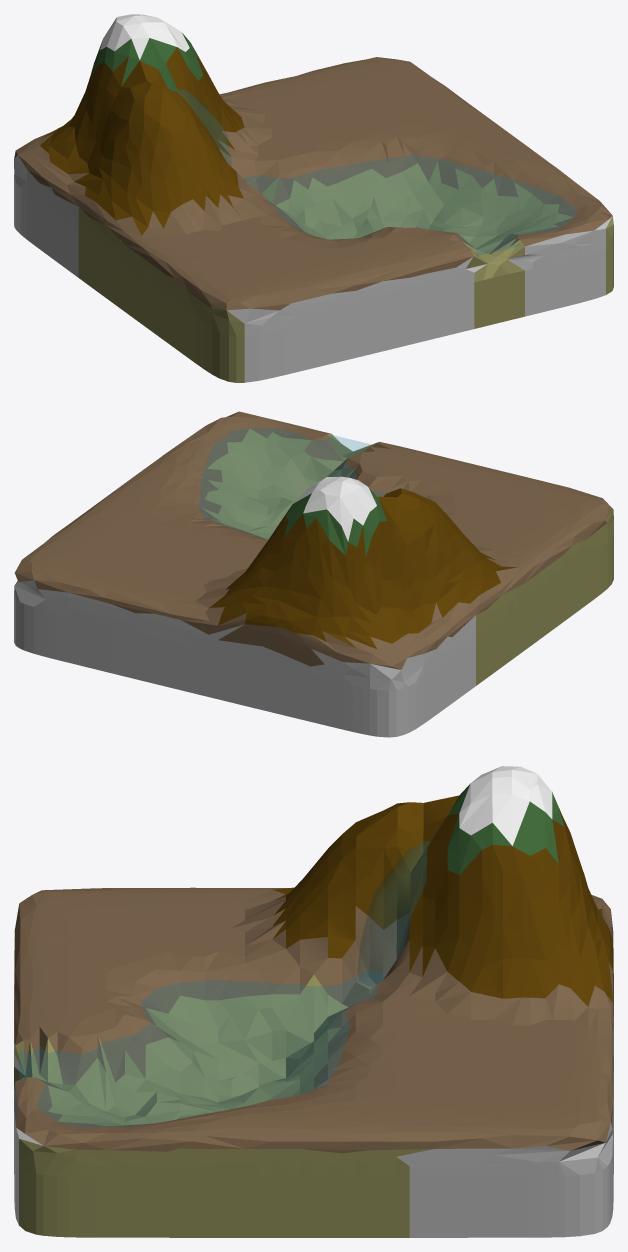
The model's file is Low_Poly_Landscape_e86313dd.glb.
3 views of the same model, one above another, from view 1: azimuth 30°, elevation 25°; view 2: azimuth 150°, elevation 25°; view 3: azimuth 270°, elevation 25° (orthographic). The views are drawn at different scales.
Visible parts, largest first — view 1: pCube3_dirt3_0, pCube3_Sand_0, pCube3_lambert1_0, pCube3_Water_0, pCube3_Dirt_0, pCube3_Rocks_0, pCube3_dirt2_0, pCube3_Grass_0, pCube3_Snow_0; view 2: pCube3_dirt3_0, pCube3_lambert1_0, pCube3_Sand_0, pCube3_Water_0, pCube3_Dirt_0, pCube3_dirt2_0, pCube3_Rocks_0, pCube3_Snow_0, pCube3_Grass_0; view 3: pCube3_dirt3_0, pCube3_Sand_0, pCube3_Water_0, pCube3_lambert1_0, pCube3_dirt2_0, pCube3_Rocks_0, pCube3_Dirt_0, pCube3_Snow_0, pCube3_Grass_0.
Boxes of the visible parts, box(x1,y1,x2,y2) form: pCube3_dirt3_0: box(14, 57, 612, 310); pCube3_Sand_0: box(78, 161, 613, 382); pCube3_lambert1_0: box(14, 155, 611, 382); pCube3_Water_0: box(174, 89, 576, 255); pCube3_Dirt_0: box(40, 101, 244, 235); pCube3_Rocks_0: box(70, 47, 216, 151); pCube3_dirt2_0: box(69, 68, 234, 193); pCube3_Grass_0: box(91, 33, 202, 94); pCube3_Snow_0: box(100, 14, 189, 59); pCube3_dirt3_0: box(14, 411, 613, 669); pCube3_lambert1_0: box(14, 580, 475, 737); pCube3_Sand_0: box(201, 429, 613, 685); pCube3_Water_0: box(198, 428, 385, 539); pCube3_Dirt_0: box(209, 534, 517, 648); pCube3_dirt2_0: box(240, 514, 474, 616); pCube3_Rocks_0: box(266, 488, 450, 614); pCube3_Snow_0: box(293, 476, 376, 541); pCube3_Grass_0: box(284, 487, 386, 556); pCube3_dirt3_0: box(14, 887, 613, 1153); pCube3_Sand_0: box(14, 975, 433, 1237); pCube3_Water_0: box(19, 841, 429, 1127); pCube3_lambert1_0: box(14, 932, 613, 1237); pCube3_dirt2_0: box(286, 847, 597, 971); pCube3_Rocks_0: box(328, 795, 579, 926); pCube3_Dirt_0: box(272, 880, 613, 1006); pCube3_Snow_0: box(459, 766, 552, 845); pCube3_Grass_0: box(447, 783, 564, 874).
Size of the model in its own units: 0.2396 by 0.121 by 0.2396.
